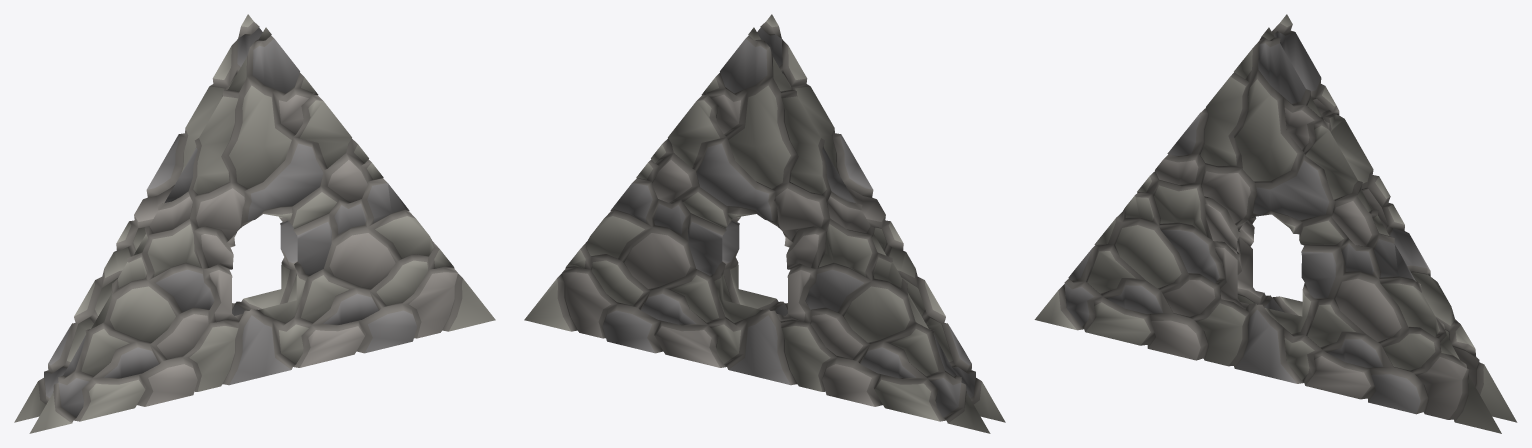
File: rpgpp_ag_roof_end_01_6x5_wall_window_03c.fbx
3 renders of one model, left to right at view 1: azimuth 30°, elevation 25°; view 2: azimuth 150°, elevation 25°; view 3: azimuth 330°, elevation 25°, orthographic.
Visible parts, largest first — view 1: rpgpp_ag_roof_end_01_6x5_wall_window_03c; view 2: rpgpp_ag_roof_end_01_6x5_wall_window_03c; view 3: rpgpp_ag_roof_end_01_6x5_wall_window_03c.
Part boxes in pixels (box(x1,y1,x2,y2)): rpgpp_ag_roof_end_01_6x5_wall_window_03c: box(14, 14, 495, 433); rpgpp_ag_roof_end_01_6x5_wall_window_03c: box(524, 14, 1005, 433); rpgpp_ag_roof_end_01_6x5_wall_window_03c: box(1034, 14, 1517, 433).
Size of the model in its own units: 6.38 by 4.58 by 0.4229.
